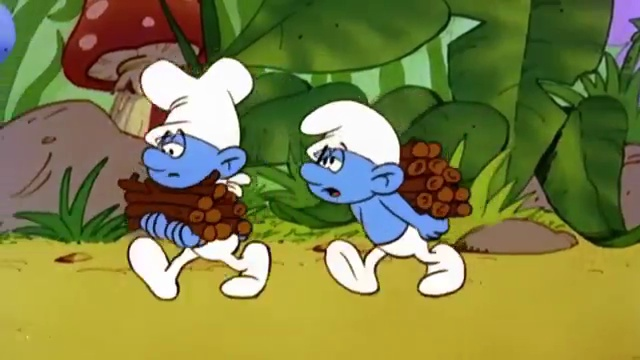smurf: (296, 95, 470, 300), (125, 56, 270, 300)
